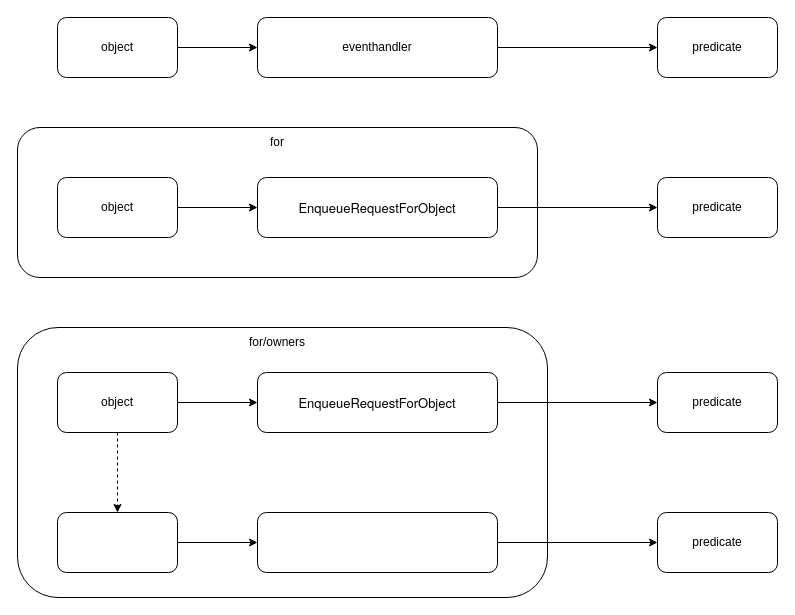
The diagram is 795 pixels wide and 615 high, and some of its shapes have lost their labels. Here are the shapes that lost their labels. From the top down, the centre of each, then its label:
At (x=117, y=542): "owner Object".
At (x=377, y=542): "EnqueueRequestForOwner".
